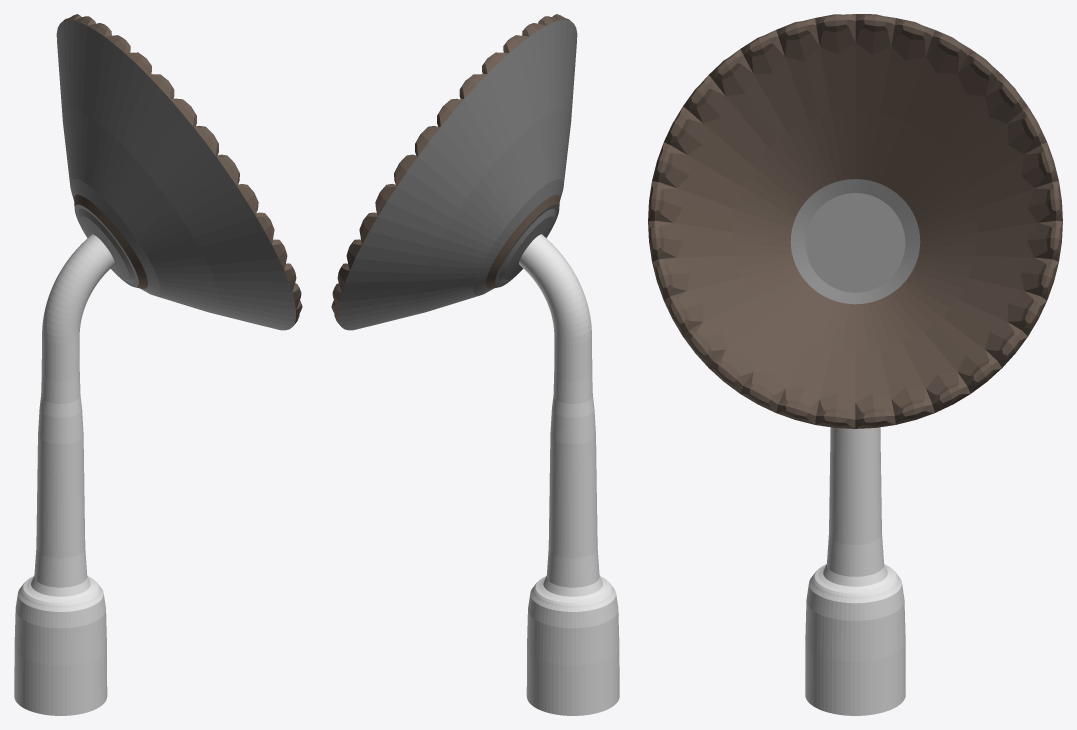
Rendered from antena.fbx.
3 renders of one model, left to right at view 1: azimuth 30°, elevation 25°; view 2: azimuth 150°, elevation 25°; view 3: azimuth 270°, elevation 25°, orthographic. The views are drawn at different scales.
Parts seen in each view (by area): view 1: Cylinder.002, Cylinder.001, Cylinder; view 2: Cylinder.002, Cylinder.001, Cylinder; view 3: Cylinder, Cylinder.001, Cylinder.002.
Part boxes in pixels (x1,y1,x2,y2): Cylinder.002: (56, 20, 295, 330); Cylinder.001: (14, 234, 114, 715); Cylinder: (61, 14, 302, 325); Cylinder.002: (338, 20, 577, 330); Cylinder.001: (519, 234, 619, 715); Cylinder: (331, 14, 572, 325); Cylinder: (648, 14, 1062, 428); Cylinder.001: (805, 427, 905, 715); Cylinder.002: (790, 179, 920, 304).
Size of the model in its own units: 1165 by 3096 by 1647.
